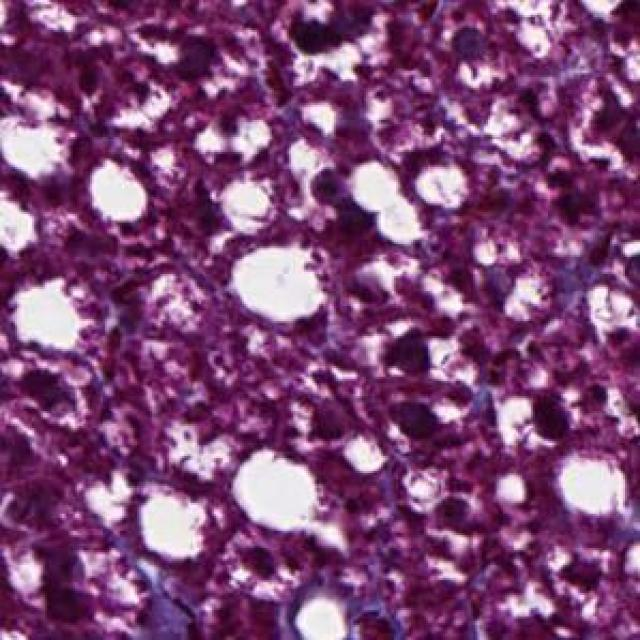steatosis: (225, 443, 323, 524), (225, 250, 323, 324)
